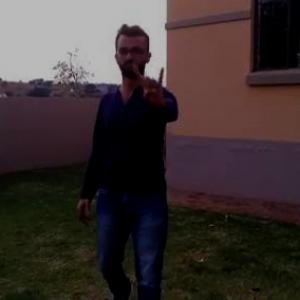takeoff-hand: (127, 59, 169, 107)
